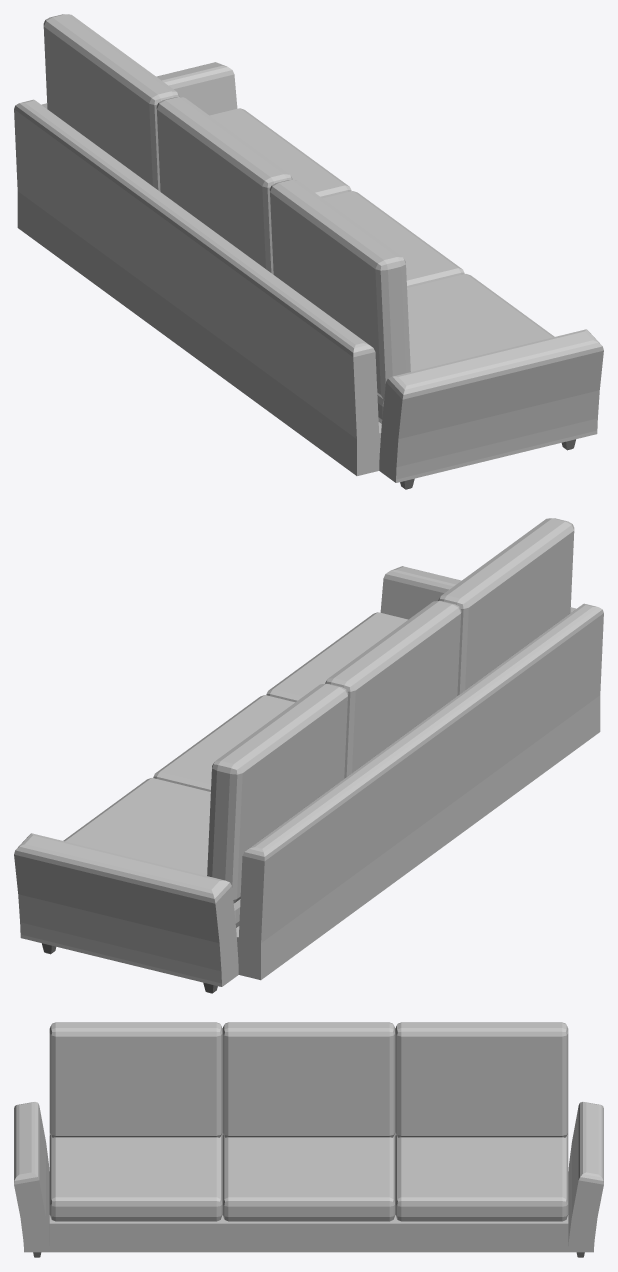
The model's file is Sofa_5.fbx.
3 views of the same model, one above another, from view 1: azimuth 30°, elevation 25°; view 2: azimuth 150°, elevation 25°; view 3: azimuth 270°, elevation 25° (orthographic). The views are drawn at different scales.
Visible parts, largest first — view 1: Sofa_5; view 2: Sofa_5; view 3: Sofa_5.
Boxes of the visible parts, x1,y1,x2,y2 form: Sofa_5: (14,14,603,489); Sofa_5: (14,518,603,993); Sofa_5: (14,1022,603,1257).
Bounding box in the file's own units: 0.7005 × 0.6489 × 2.05.
